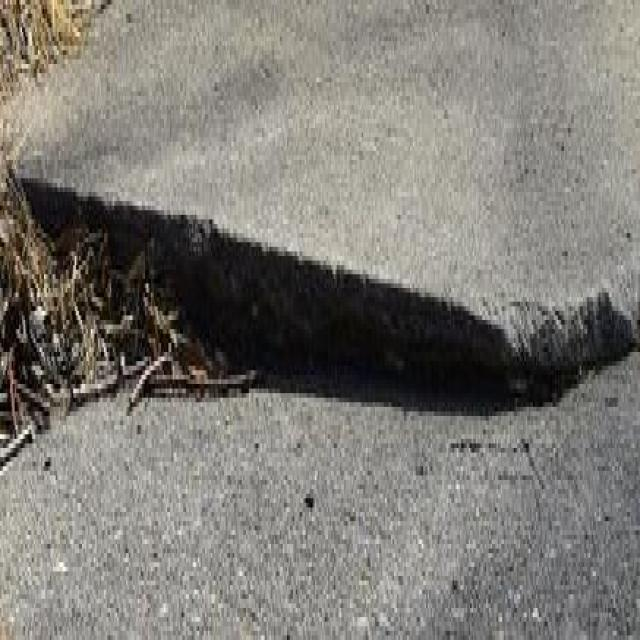bump: (0, 76, 640, 474)
